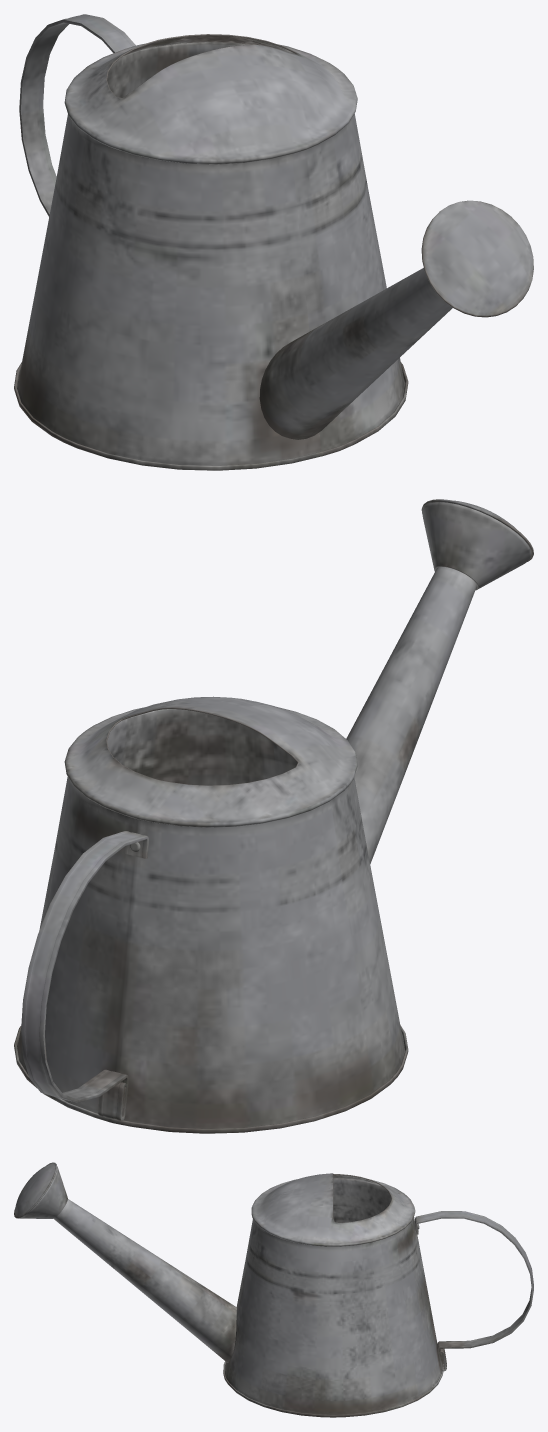
Rendered from watering_can_metal_01.glb.
3 renders of one model, top to bottom at view 1: azimuth 30°, elevation 25°; view 2: azimuth 150°, elevation 25°; view 3: azimuth 270°, elevation 25°, orthographic. The views are drawn at different scales.
Parts seen in each view (by area): view 1: watering_can_metal_01; view 2: watering_can_metal_01; view 3: watering_can_metal_01.
Boxes of the visible parts, left/top/right/bottom form: watering_can_metal_01: left=14, top=14, right=533, bottom=470; watering_can_metal_01: left=14, top=499, right=533, bottom=1133; watering_can_metal_01: left=14, top=1162, right=533, bottom=1417.
Size of the model in its own units: 0.191 by 0.1968 by 0.4523.
1 material, 1 textured.
